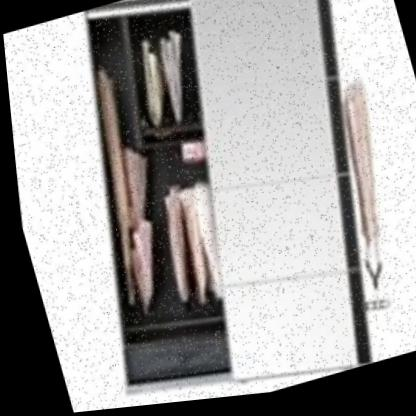Closet: (12, 0, 416, 415)
